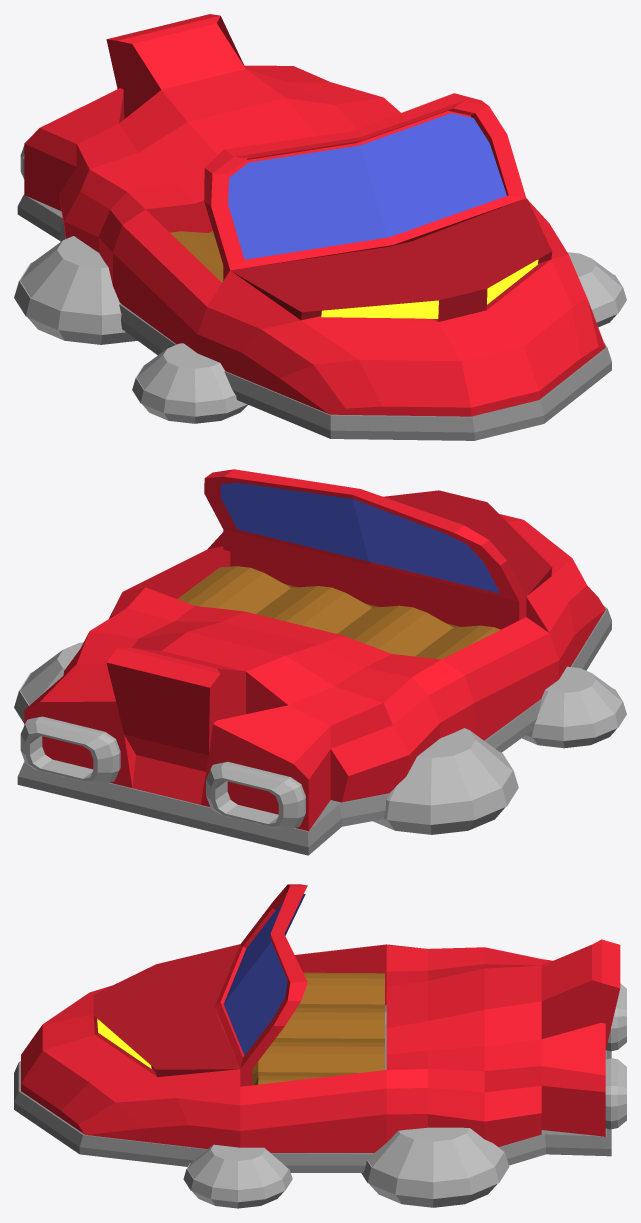
File: Carrito.fbx
3 views of the same model, one above another, from view 1: azimuth 30°, elevation 25°; view 2: azimuth 150°, elevation 25°; view 3: azimuth 270°, elevation 25° (orthographic). The views are drawn at different scales.
Parts seen in each view (by area): view 1: Plane.004, Plane.001, Plane.008, Plane.003, Plane, Plane.005, Plane.002, Circle.002, Circle, Plane.009, Plane.007; view 2: Plane.004, Plane.011, Plane.005, Plane.007, Circle.002, Plane, Plane.001, Plane.002, Plane.006, Circle, Plane.003; view 3: Plane.004, Plane.001, Plane.002, Plane.003, Plane.007, Circle.002, Plane, Circle, Plane.005, Plane.008, Plane.006, Plane.009.
Part boxes in pixels (box(x1,y1,x2,y2)): Plane.004: box(24, 14, 400, 285); Plane.001: box(197, 199, 605, 416); Plane.008: box(228, 113, 506, 259); Plane.003: box(230, 198, 552, 321); Plane: box(17, 194, 611, 440); Plane.005: box(204, 93, 525, 280); Plane.002: box(113, 209, 221, 352); Circle.002: box(14, 236, 137, 344); Circle: box(132, 252, 626, 423); Plane.009: box(321, 259, 538, 318); Plane.007: box(170, 231, 223, 282); Plane.004: box(24, 587, 474, 831); Plane.011: box(220, 482, 500, 593); Plane.005: box(204, 469, 526, 621); Plane.007: box(177, 566, 500, 659); Circle.002: box(14, 642, 518, 834); Plane: box(17, 605, 611, 855); Plane.001: box(207, 514, 605, 678); Plane.002: box(123, 546, 558, 740); Plane.006: box(20, 716, 305, 830); Circle: box(522, 666, 626, 748); Plane.003: box(383, 490, 552, 596); Plane.004: box(386, 939, 620, 1146); Plane.001: box(21, 985, 240, 1148); Plane.002: box(240, 944, 386, 1152); Plane.003: box(93, 944, 239, 1077); Plane.007: box(252, 972, 384, 1085); Circle.002: box(361, 1005, 509, 1207); Plane: box(14, 1024, 611, 1172); Circle: box(183, 1144, 292, 1208); Plane.005: box(215, 884, 307, 1086); Plane.008: box(223, 901, 287, 1055); Plane.006: box(605, 983, 626, 1129); Plane.009: box(97, 1018, 151, 1068).
Size of the model in its own units: 266 by 109 by 340.
